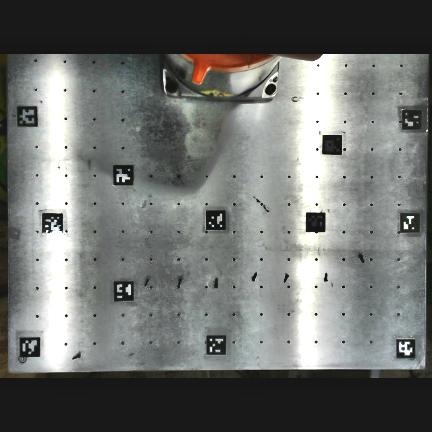black_screw: (283, 274, 290, 281), (144, 278, 150, 286), (324, 272, 328, 280), (361, 254, 365, 262), (252, 272, 257, 277), (214, 281, 218, 287), (72, 355, 76, 359), (178, 281, 180, 287)
marker: (17, 107, 38, 128), (400, 213, 420, 234), (42, 214, 62, 234), (113, 166, 133, 186), (114, 282, 134, 302), (206, 337, 226, 357), (403, 111, 422, 132), (206, 210, 225, 231), (20, 338, 40, 357), (396, 339, 415, 359), (306, 213, 325, 232), (323, 136, 342, 154)
